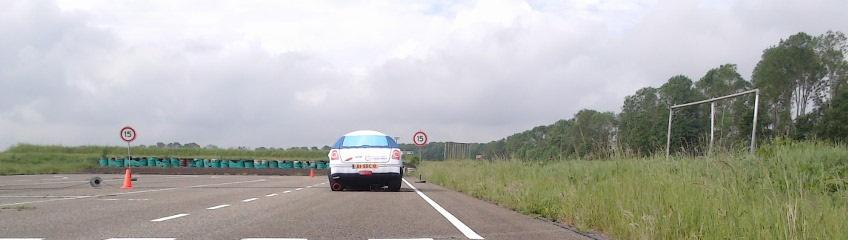Car: (328, 130, 402, 192)
Speed-limit-15km-h-: (412, 132, 428, 146), (120, 127, 135, 141)
